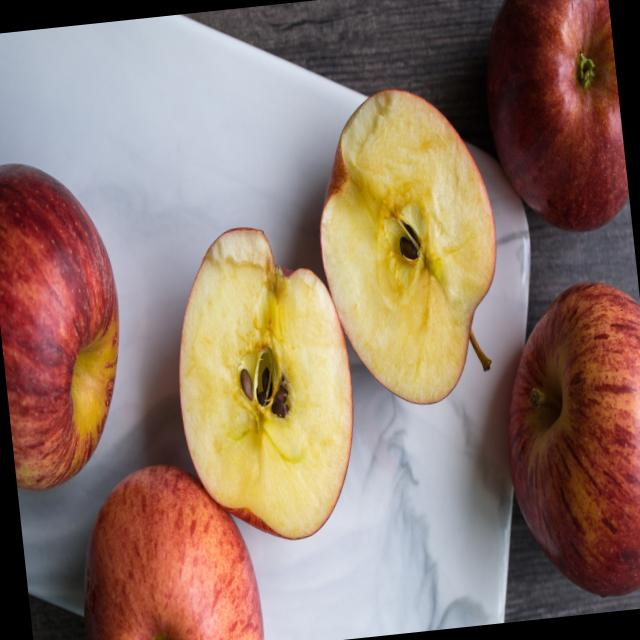apple_fruit: (309, 65, 499, 435), (171, 214, 357, 549), (509, 269, 640, 603), (0, 147, 123, 497), (477, 0, 628, 237)
